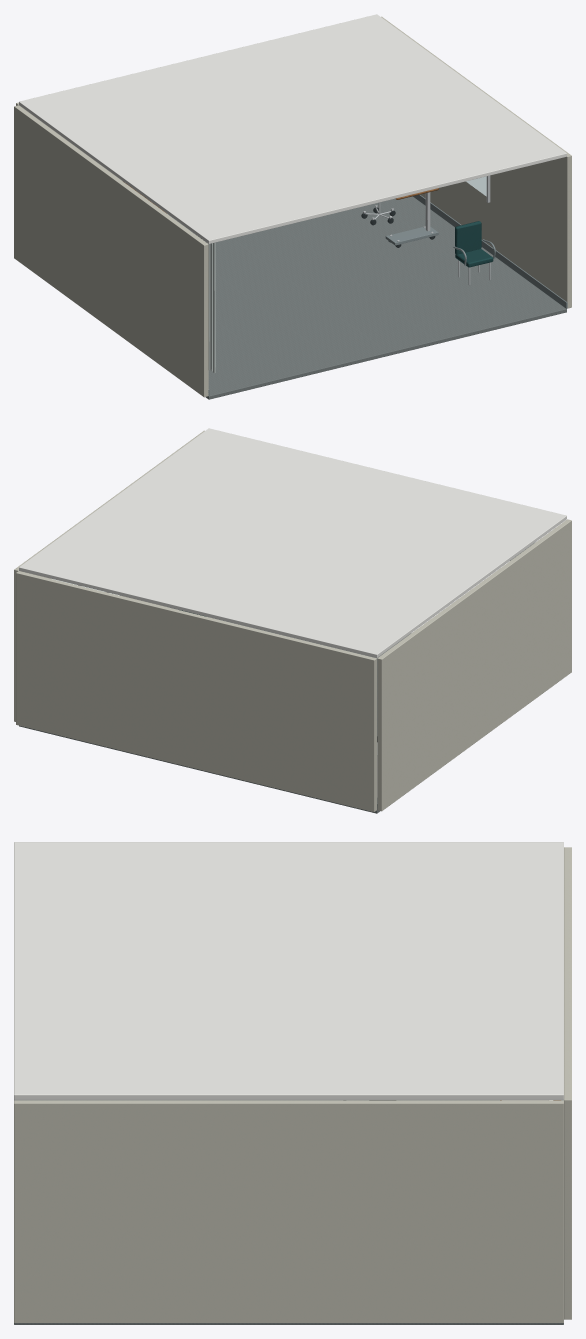
File: inpatient-room-BGD6hl_S.glb
3 renders of one model, top to bottom at view 1: azimuth 30°, elevation 25°; view 2: azimuth 150°, elevation 25°; view 3: azimuth 270°, elevation 25°, orthographic. The views are drawn at different scales.
Parts seen in each view (by area): view 1: ceiling | Runtime finish | roughness 0.4 | metal 0.0, floor | Sheet vinyl | mineral fleck | matte, wall_left | Warm off-white | washable eggshell, wall_right | Warm off-white | washable eggshell, floor | Teal chair upholstery | original woven texture, wall_left | Runtime finish | roughness 1.0 | metal 0.0, wall_right | Runtime finish | roughness 0.5 | metal 0.0, floor | Runtime finish | roughness 0.5 | metal 0.0; view 2: ceiling | Runtime finish | roughness 0.4 | metal 0.0, wall_back | Warm off-white | washable eggshell, wall_left | Warm off-white | washable eggshell, floor | Sheet vinyl | mineral fleck | matte, wall_right | Warm off-white | washable eggshell; view 3: ceiling | Runtime finish | roughness 0.4 | metal 0.0, wall_right | Warm off-white | washable eggshell, wall_back | Warm off-white | washable eggshell, floor | Sheet vinyl | mineral fleck | matte.
Boxes of the visible parts, <box> form: ceiling | Runtime finish | roughness 0.4 | metal 0.0: <box>19,14,566,243</box>; floor | Sheet vinyl | mineral fleck | matte: <box>176,196,566,399</box>; wall_left | Warm off-white | washable eggshell: <box>14,105,208,397</box>; wall_right | Warm off-white | washable eggshell: <box>381,16,571,308</box>; floor | Teal chair upholstery | original woven texture: <box>455,221,493,267</box>; wall_left | Runtime finish | roughness 1.0 | metal 0.0: <box>193,233,215,373</box>; wall_right | Runtime finish | roughness 0.5 | metal 0.0: <box>413,194,567,308</box>; floor | Runtime finish | roughness 0.5 | metal 0.0: <box>385,226,495,265</box>; ceiling | Runtime finish | roughness 0.4 | metal 0.0: <box>19,428,566,657</box>; wall_back | Warm off-white | washable eggshell: <box>16,571,376,811</box>; wall_left | Warm off-white | washable eggshell: <box>377,519,571,811</box>; floor | Sheet vinyl | mineral fleck | matte: <box>19,609,410,813</box>; wall_right | Warm off-white | washable eggshell: <box>14,430,204,721</box>; ceiling | Runtime finish | roughness 0.4 | metal 0.0: <box>14,842,563,1099</box>; wall_right | Warm off-white | washable eggshell: <box>14,1100,563,1322</box>; wall_back | Warm off-white | washable eggshell: <box>564,847,571,1319</box>; floor | Sheet vinyl | mineral fleck | matte: <box>14,1100,563,1324</box>.
Bounding box in the file's own units: 7.6 × 3.14 × 6.9.
Materials: 17 (4 with a texture image).
